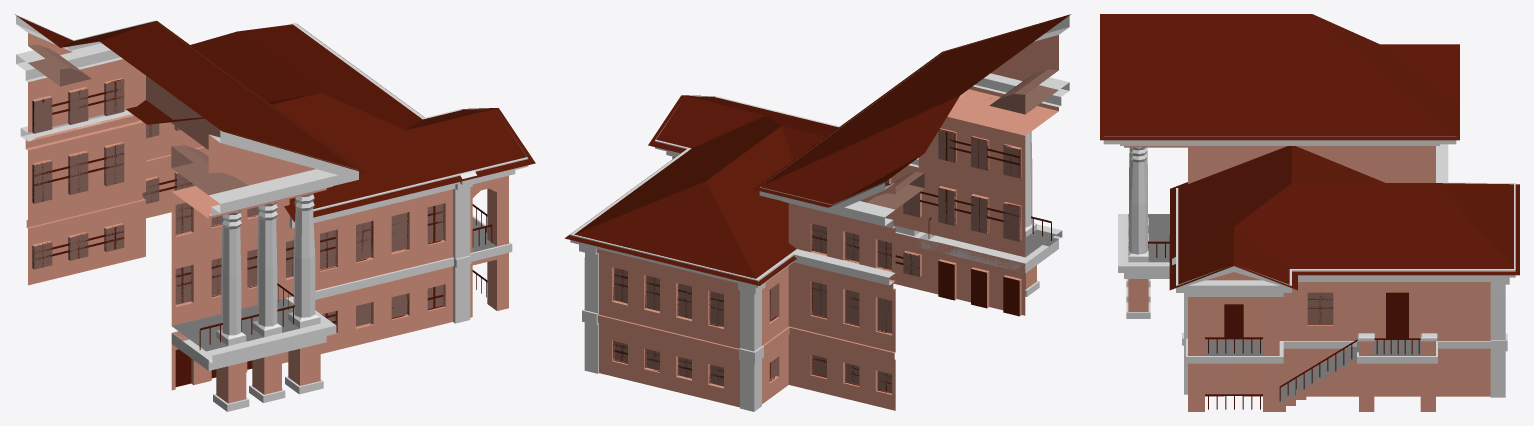
The model's file is newDVUH.glb.
The picture shows the model from 3 angles, left to right: view 1: azimuth 30°, elevation 25°; view 2: azimuth 150°, elevation 25°; view 3: azimuth 270°, elevation 25°; orthographic projection. The views are drawn at different scales.
Visible parts, largest first — view 1: Плоскость, Плоскость.001, Плоскость.002, Плоскость.009, Плоскость.008, Плоскость.006, Плоскость.007; view 2: Плоскость, Плоскость.001, Плоскость.003, Плоскость.009, Плоскость.006, Плоскость.002, Плоскость.008; view 3: Плоскость.001, Плоскость, Плоскость.002, Плоскость.003, Плоскость.004, Плоскость.007, Плоскость.010.
Boxes of the visible parts, box(x1,y1,x2,y2) form: Плоскость: box(16, 15, 528, 411); Плоскость.001: box(15, 14, 535, 222); Плоскость.002: box(216, 193, 320, 345); Плоскость.009: box(34, 89, 443, 323); Плоскость.008: box(42, 82, 435, 318); Плоскость.006: box(33, 79, 443, 325); Плоскость.007: box(199, 208, 492, 349); Плоскость: box(570, 15, 1069, 410); Плоскость.001: box(564, 14, 1070, 285); Плоскость.003: box(579, 244, 765, 411); Плоскость.009: box(614, 139, 1019, 383); Плоскость.006: box(613, 129, 1020, 393); Плоскость.002: box(960, 94, 1036, 237); Плоскость.008: box(621, 131, 1010, 391); Плоскость.001: box(1100, 14, 1519, 290); Плоскость: box(1103, 136, 1515, 411); Плоскость.002: box(1128, 147, 1148, 262); Плоскость.003: box(1490, 277, 1509, 397); Плоскость.004: box(1279, 347, 1356, 411); Плоскость.007: box(1148, 242, 1419, 409); Плоскость.010: box(1148, 241, 1420, 395).
Bounding box in the file's own units: 1.74 × 1.39 × 2.06.
